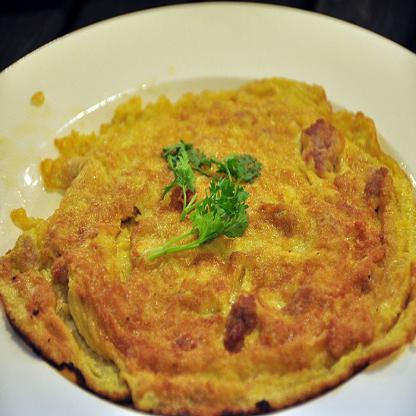Omelette: (7, 74, 416, 415)
